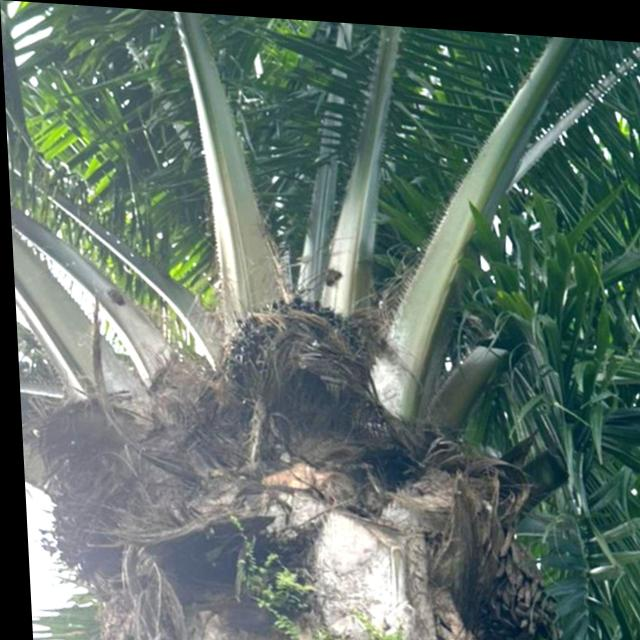unripe: (207, 273, 388, 448)
